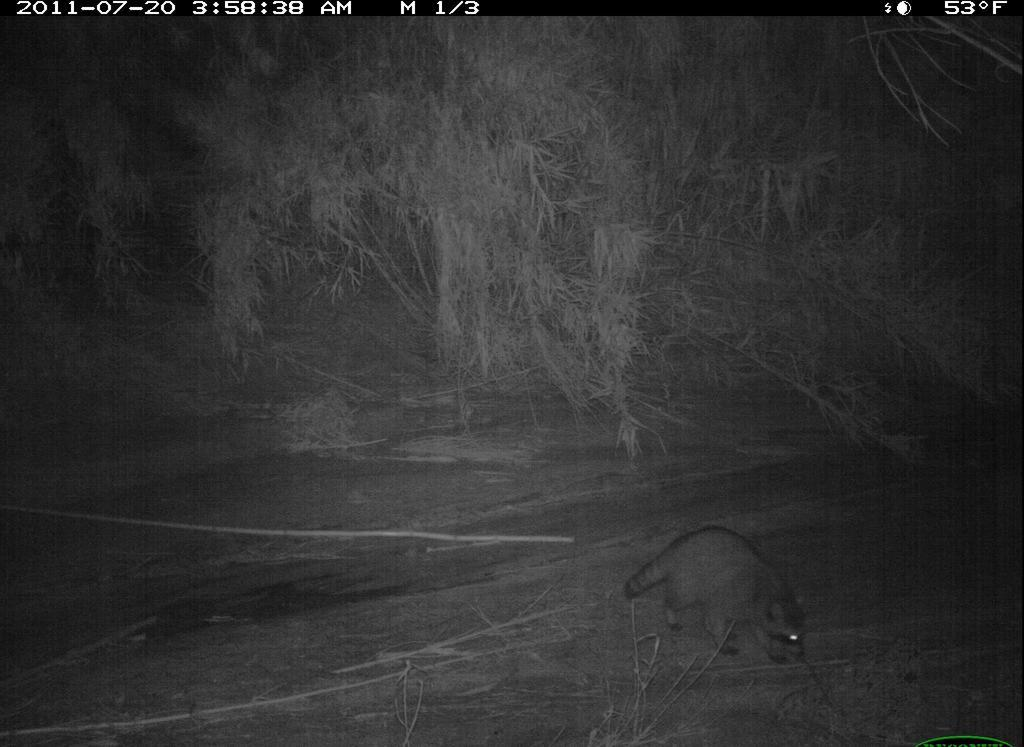raccoon: (616, 521, 821, 675)
